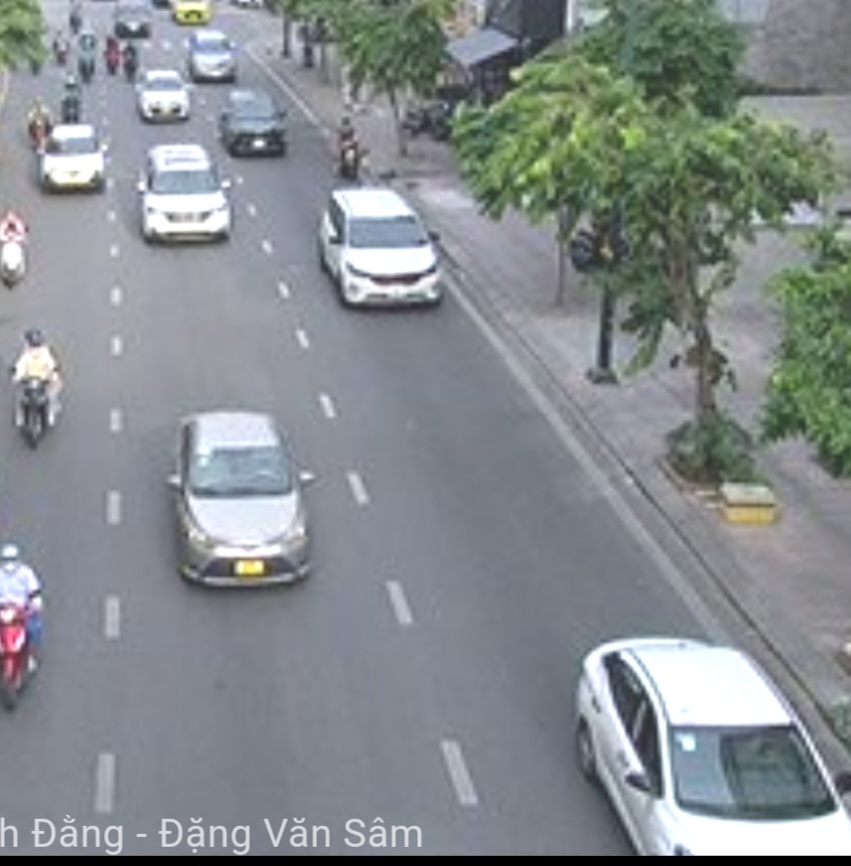car: (576, 638, 850, 850), (172, 411, 313, 589), (319, 189, 440, 309), (140, 145, 233, 248), (221, 88, 289, 160), (40, 122, 104, 193), (136, 67, 188, 125), (186, 32, 236, 83)
